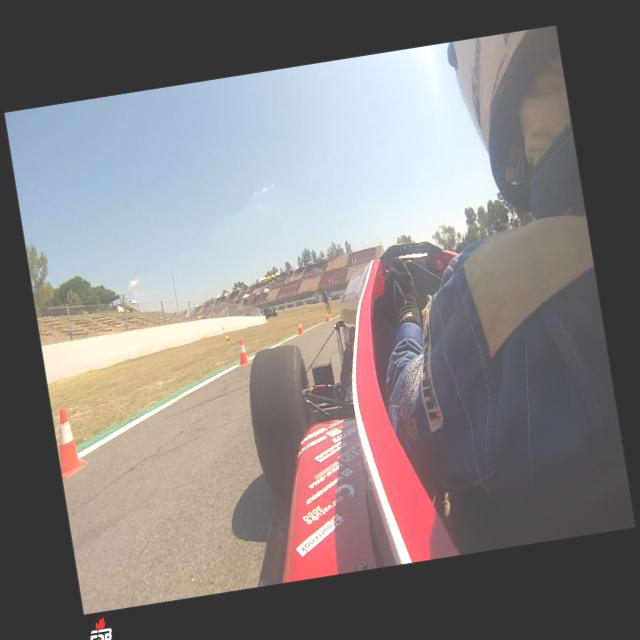orange_cone: (52, 405, 88, 479), (237, 338, 250, 364), (296, 318, 304, 334), (324, 312, 330, 322)
yellow_cone: (224, 334, 232, 342)
